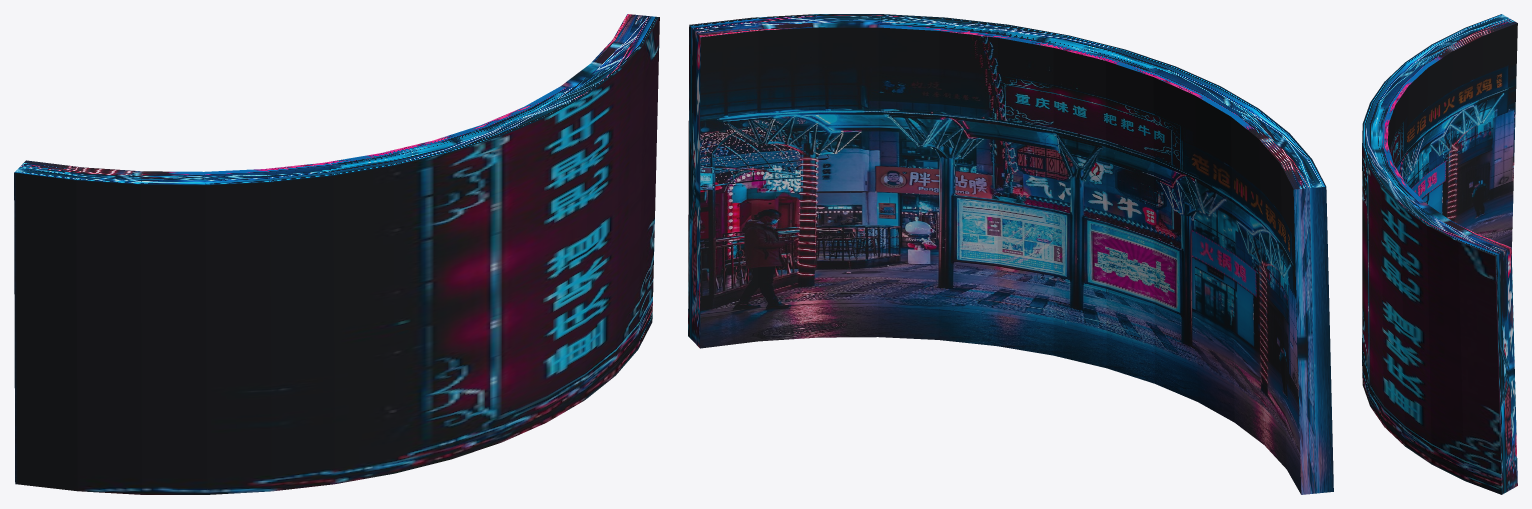
The model's file is Foto1.fbx.
The picture shows the model from 3 angles, left to right: view 1: azimuth 30°, elevation 25°; view 2: azimuth 150°, elevation 25°; view 3: azimuth 270°, elevation 25°; orthographic projection. The views are drawn at different scales.
Parts seen in each view (by area): view 1: Cubo; view 2: Cubo; view 3: Cubo.
Boxes of the visible parts, <box> form: Cubo: <box>14,14,659,494</box>; Cubo: <box>688,14,1333,494</box>; Cubo: <box>1362,14,1517,494</box>.
Size of the model in its own units: 1139 by 525 by 306.
1 material, 1 textured.
